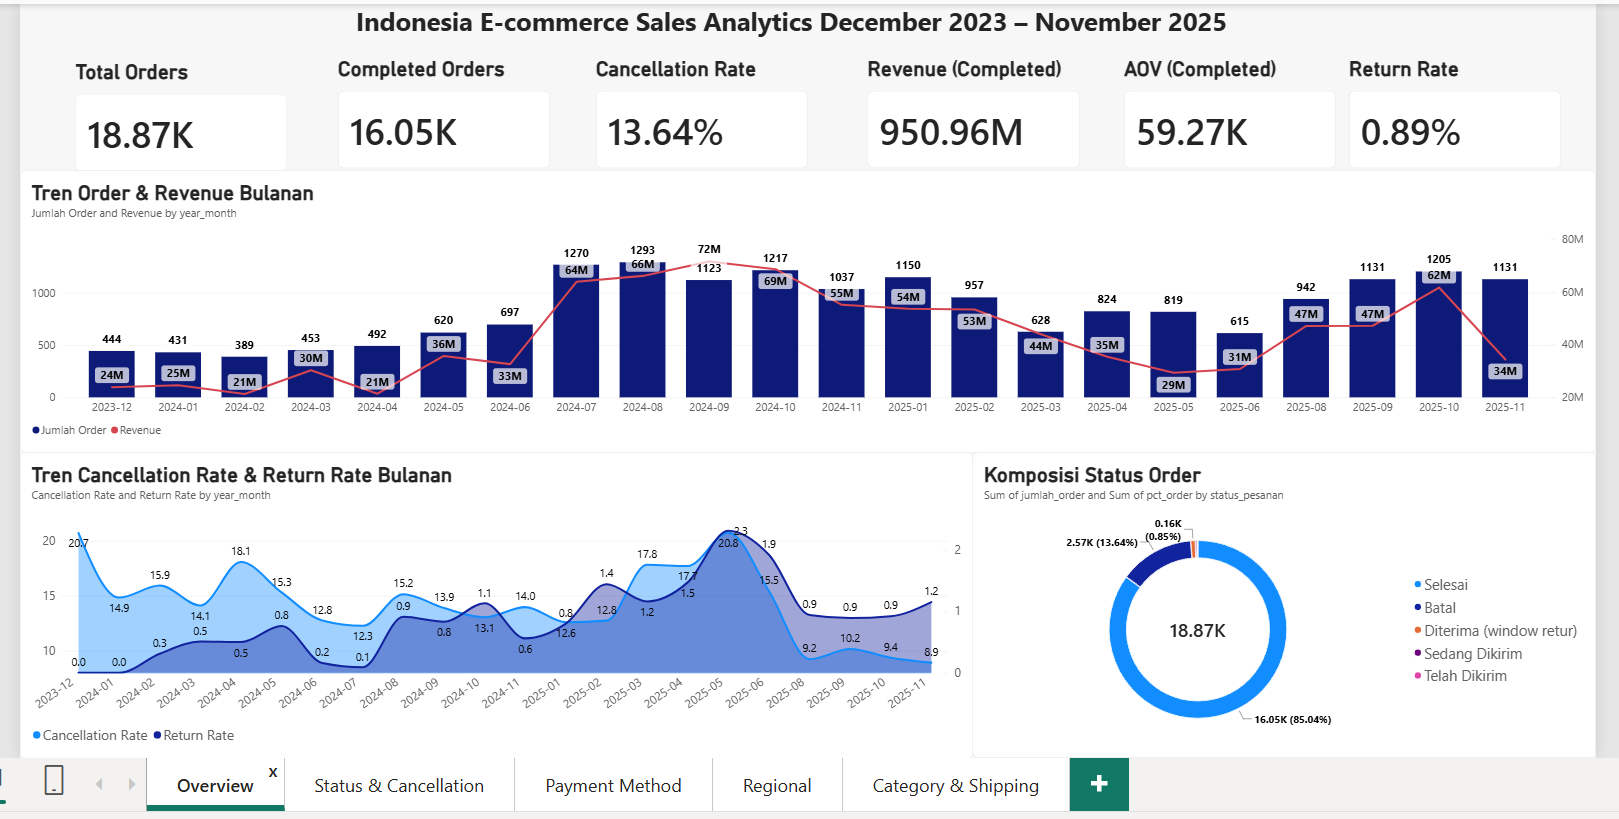

The page's visual inventory and layout, read from the dashboard file:
{"tool":"powerbi","page":{"name":"Overview","canvas":[2300,1100],"ordinal":0},"visuals":[{"type":"textbox","box":[490.9,0,1292.8,80.2],"z":0},{"type":"cardVisual","title":"Total Orders","fields":{"Data":["Sum(mart_overview_kpi.total_orders)"]},"box":[79.9,79.9,308.7,163],"z":1000},{"type":"cardVisual","title":"Completed Orders","fields":{"Data":["Sum(mart_overview_kpi.completed_orders)"]},"box":[464.5,76.9,309,163],"z":2000},{"type":"cardVisual","title":"Cancellation Rate","fields":{"Data":["mart_overview_kpi.Cancellation Rate %"]},"box":[840.3,76.9,309,163],"z":3000},{"type":"cardVisual","title":"Revenue (Completed)","fields":{"Data":["Sum(mart_overview_kpi.revenue_completed)"]},"box":[1236.8,76.9,310.7,162.7],"z":4000},{"type":"cardVisual","title":"AOV (Completed)","fields":{"Data":["Sum(mart_overview_kpi.aov_completed)"]},"box":[1609.6,76.9,309,163],"z":5000},{"type":"cardVisual","title":"Return Rate","fields":{"Data":["mart_overview_kpi.Return Rate %"]},"box":[1938,76.9,309,163],"z":6000},{"type":"lineStackedColumnComboChart","title":"Tren Order & Revenue Bulanan","fields":{"Category":["mart_monthly_trend.year_month"],"Y":["Sum(mart_monthly_trend.jumlah_order)"],"Y2":["Sum(mart_monthly_trend.revenue_completed)"]},"box":[0,242.6,2299,411.3],"z":7000},{"type":"lineChart","title":"Tren Cancellation Rate & Return Rate Bulanan","fields":{"Category":["mart_monthly_trend.year_month"],"Y":["Sum(mart_monthly_trend.cancellation_rate_pct)"],"Y2":["Sum(mart_monthly_trend.return_rate_pct)"]},"box":[0,653.9,1390.7,446.8],"z":8000},{"type":"donutChart","title":"Komposisi Status Order","fields":{"Category":["mart_order_status.status_pesanan"],"Y":["Sum(mart_order_status.jumlah_order)"]},"box":[1390.7,692.4,908.4,408.3],"z":9000}]}

Visuals, with their boxes on the page's 2300x1100 design canvas (x1, y1, x2, y2). These are canvas units, not pixel positions in the 1619x819 screenshot, which may show the page scaled, cropped or inside an application window:
textbox: x1=491, y1=0, x2=1784, y2=80
"Total Orders" cardVisual: x1=80, y1=80, x2=389, y2=243
"Completed Orders" cardVisual: x1=464, y1=77, x2=774, y2=240
"Cancellation Rate" cardVisual: x1=840, y1=77, x2=1149, y2=240
"Revenue (Completed)" cardVisual: x1=1237, y1=77, x2=1548, y2=240
"AOV (Completed)" cardVisual: x1=1610, y1=77, x2=1919, y2=240
"Return Rate" cardVisual: x1=1938, y1=77, x2=2247, y2=240
"Tren Order & Revenue Bulanan" lineStackedColumnComboChart: x1=0, y1=243, x2=2299, y2=654
"Tren Cancellation Rate & Return Rate Bulanan" lineChart: x1=0, y1=654, x2=1391, y2=1101
"Komposisi Status Order" donutChart: x1=1391, y1=692, x2=2299, y2=1101
